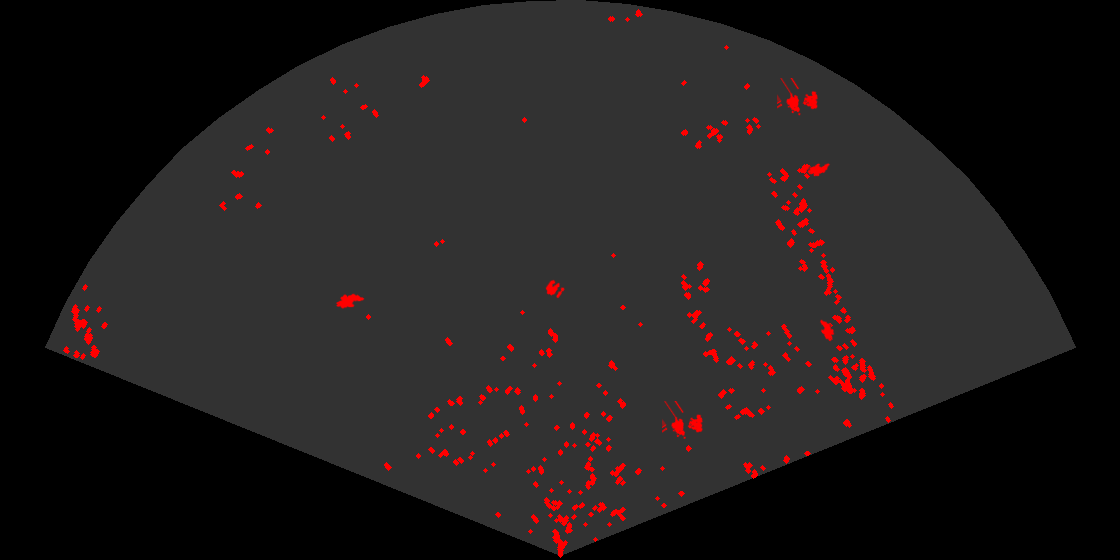AUV: (334, 292, 366, 310), (818, 318, 836, 343), (806, 162, 832, 178)
ball: (544, 278, 566, 300)
cage: (662, 401, 704, 441), (777, 78, 820, 117)
